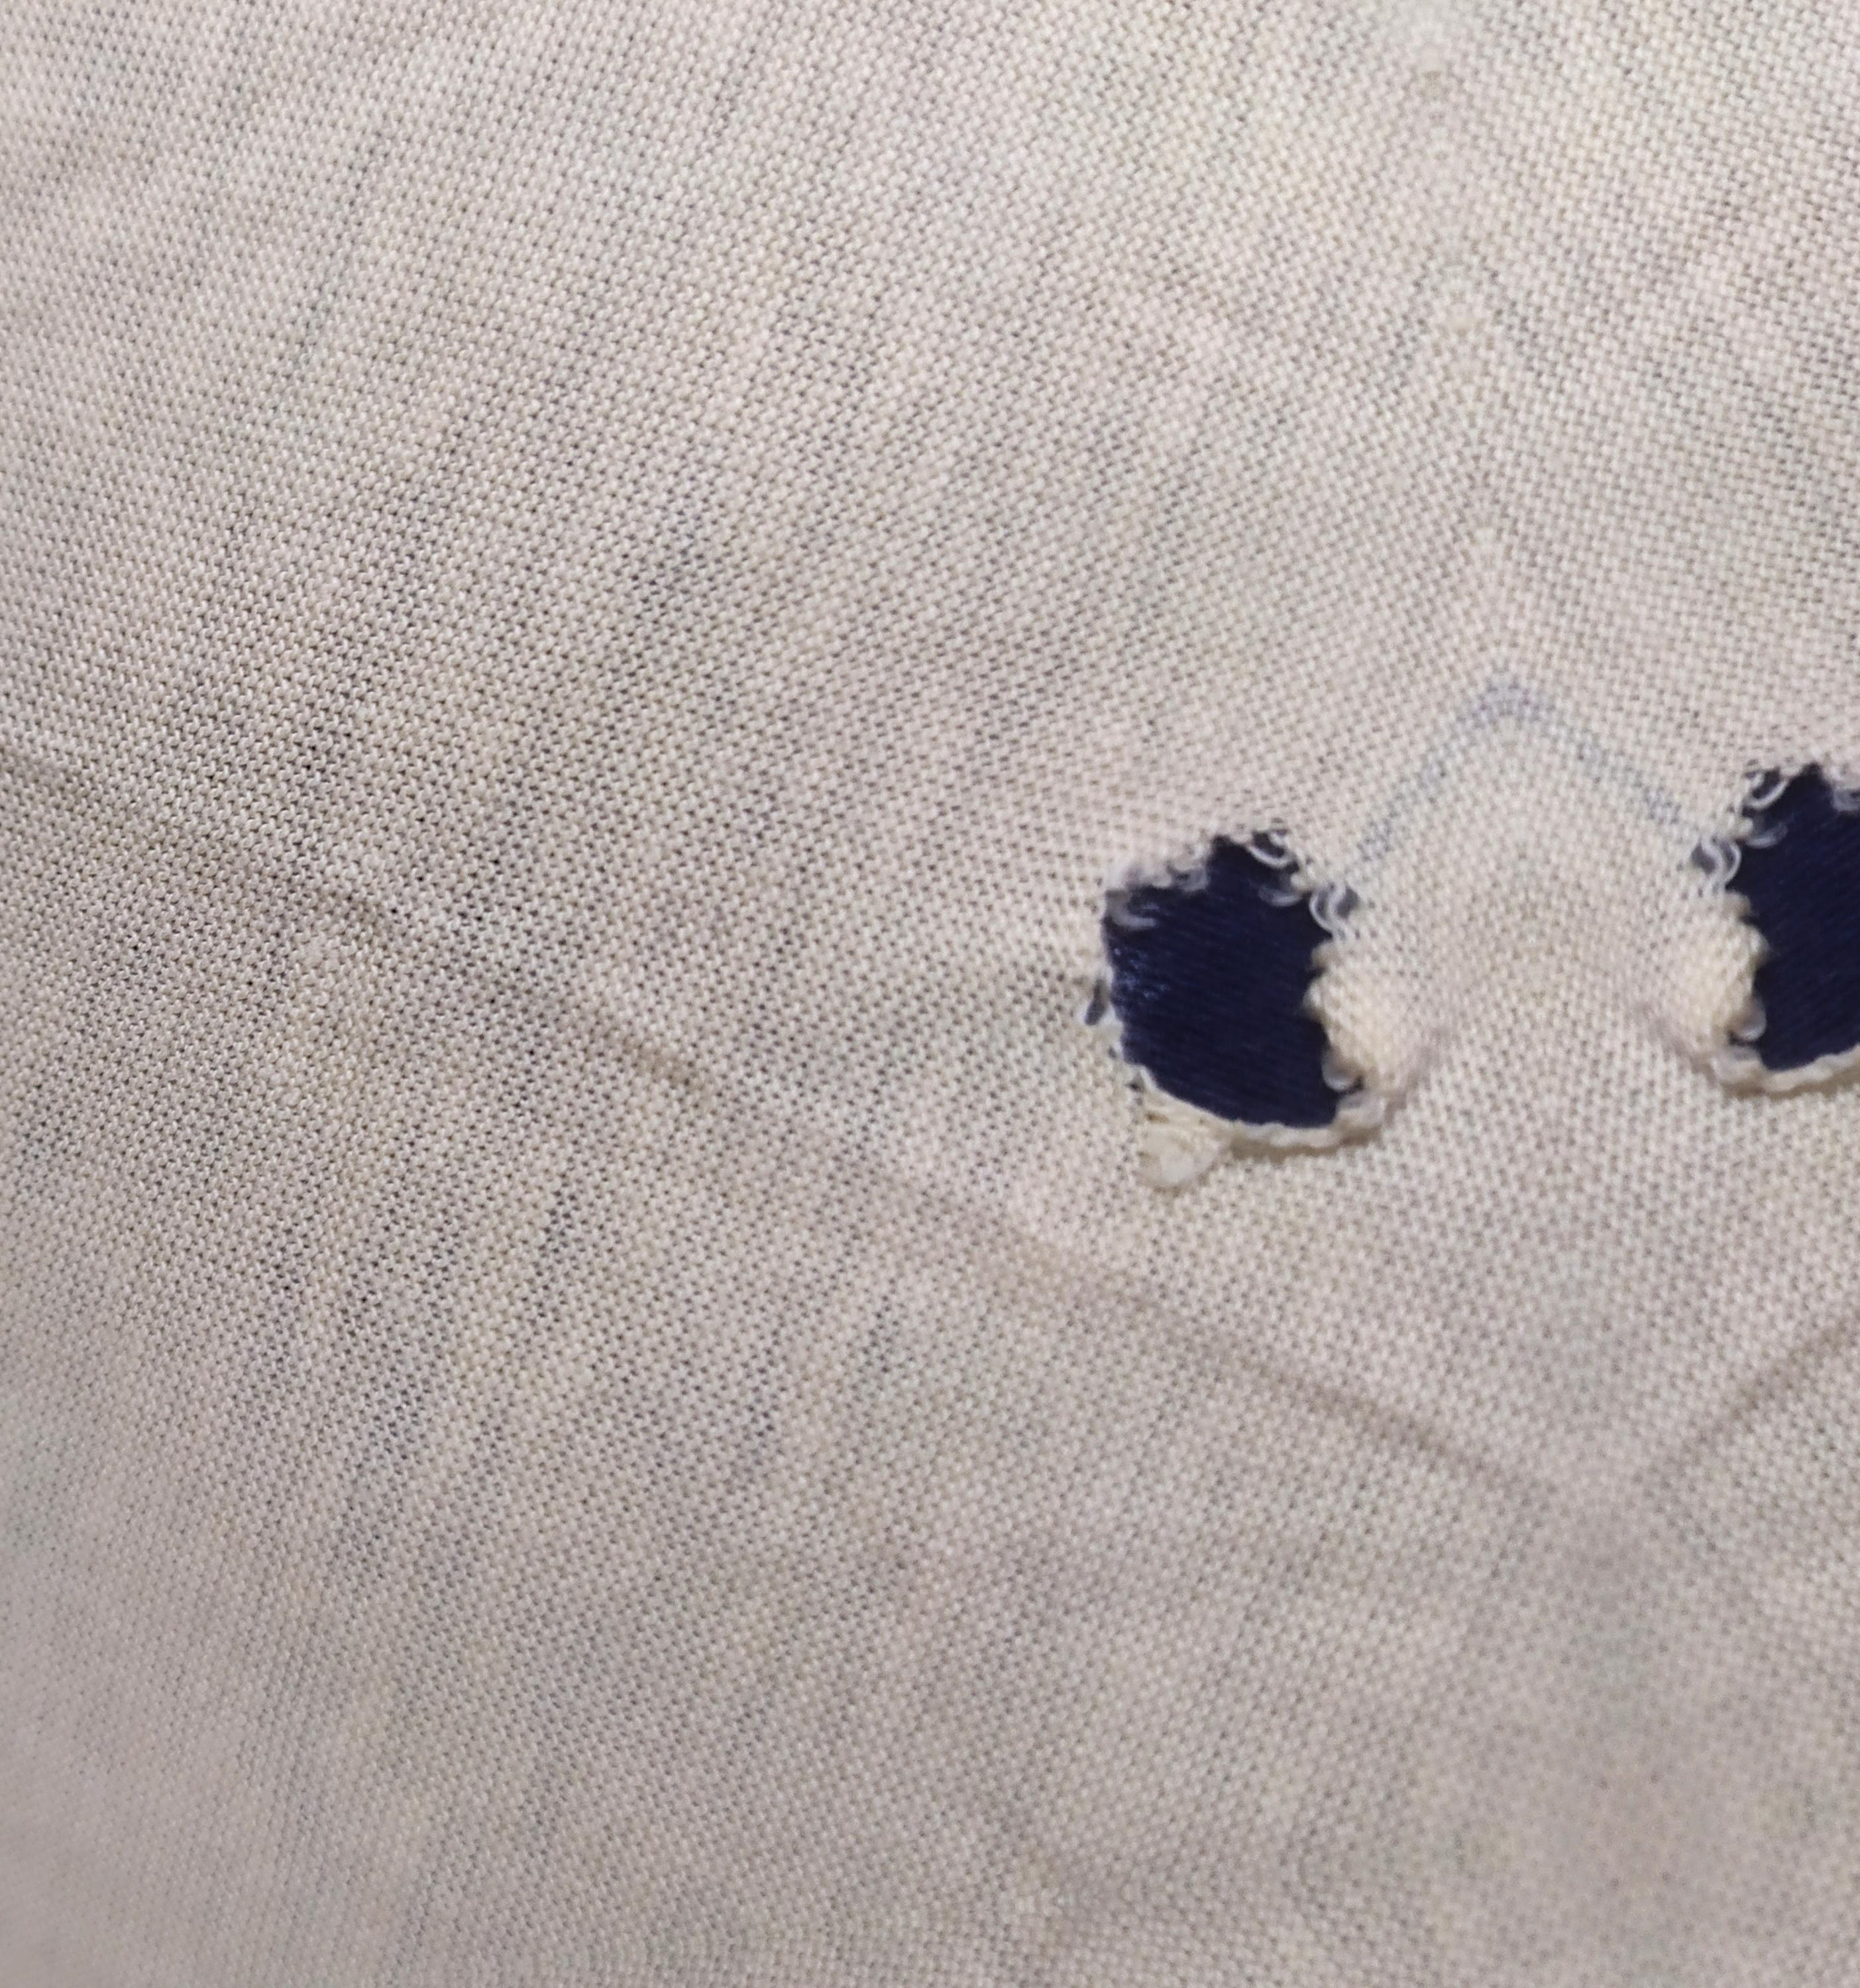hole: (1073, 792, 1411, 1185), (1687, 724, 1860, 1128)
